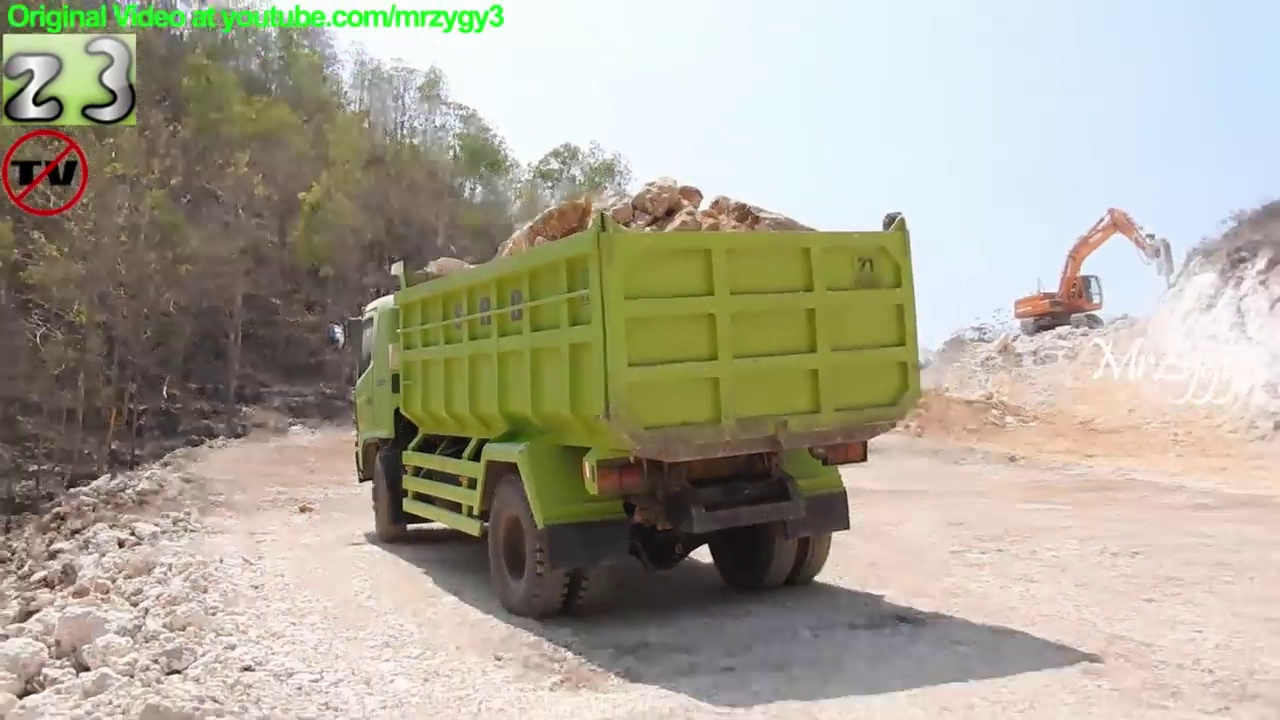excavator: (1009, 200, 1179, 338)
truck: (322, 200, 931, 623)
